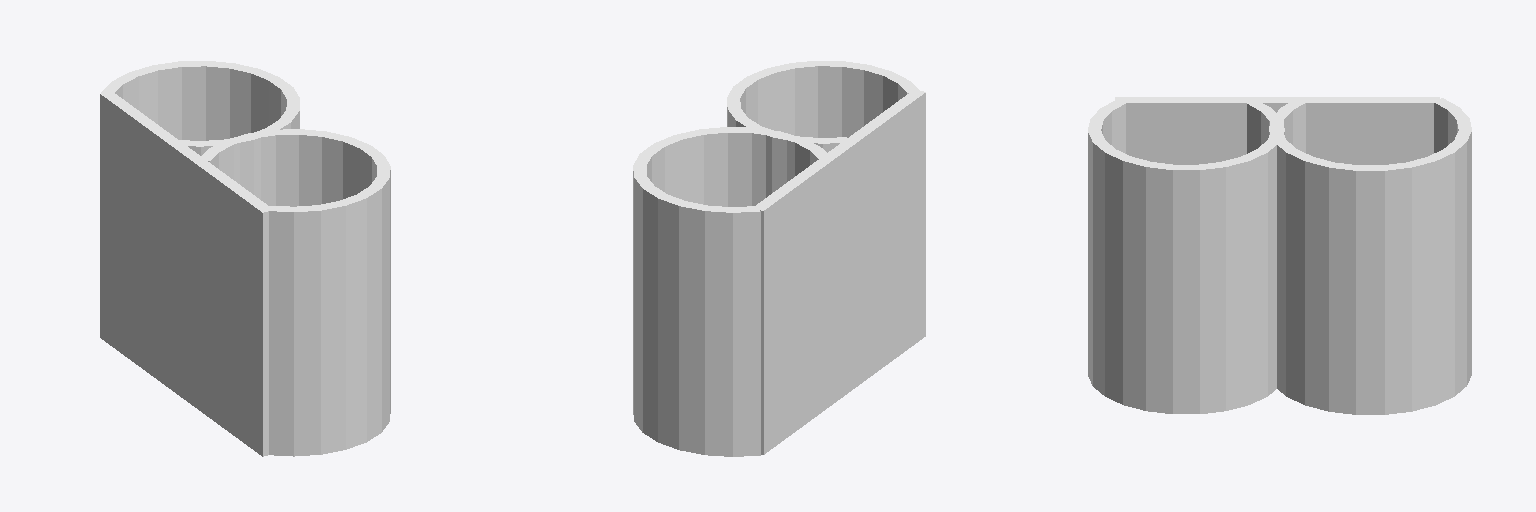
3 renders of one model, left to right at view 1: azimuth 30°, elevation 25°; view 2: azimuth 150°, elevation 25°; view 3: azimuth 270°, elevation 25°, orthographic.
Visible parts, largest first — view 1: wall_1_4, wall_3_15, wall_2_10, wall_3_16, wall_2_9, wall_2_11, wall_3_17, wall_2_12, wall_3_18, wall_1_6, wall_1_5; view 2: wall_1_4, wall_2_9, wall_3_16, wall_2_10, wall_3_15, wall_2_11, wall_3_17, wall_2_12, wall_3_18, wall_1_6, wall_1_5; view 3: wall_2_9, wall_3_15, wall_1_3, wall_3_16, wall_2_10, wall_2_11, wall_2_12, wall_3_17, wall_3_18, wall_1_6, wall_1_5.
Part boxes in pixels (x1,y1,x2,y2): wall_1_4: (100, 94, 267, 456); wall_3_15: (269, 170, 390, 456); wall_2_10: (115, 66, 286, 140); wall_3_16: (208, 135, 376, 206); wall_2_9: (188, 111, 299, 199); wall_2_11: (101, 61, 299, 146); wall_3_17: (198, 129, 390, 211); wall_2_12: (108, 64, 293, 143); wall_3_18: (204, 132, 383, 209); wall_1_6: (101, 93, 267, 212); wall_1_5: (108, 92, 271, 210); wall_1_4: (760, 93, 925, 454); wall_2_9: (633, 171, 760, 456); wall_3_16: (740, 66, 908, 137); wall_2_10: (647, 133, 818, 206); wall_3_15: (727, 107, 839, 197); wall_2_11: (633, 127, 830, 212); wall_3_17: (727, 61, 919, 143); wall_2_12: (640, 130, 824, 209); wall_3_18: (734, 63, 912, 140); wall_1_6: (759, 91, 925, 210); wall_1_5: (753, 90, 917, 209); wall_2_9: (1269, 132, 1471, 414); wall_3_15: (1088, 132, 1284, 413); wall_1_3: (1126, 103, 1433, 164); wall_3_16: (1101, 104, 1269, 153); wall_2_10: (1284, 103, 1458, 152); wall_2_11: (1269, 98, 1471, 170); wall_2_12: (1275, 101, 1464, 167); wall_3_17: (1088, 100, 1284, 169); wall_3_18: (1095, 101, 1272, 166); wall_1_6: (1115, 97, 1439, 99); wall_1_5: (1115, 100, 1439, 102).
Bounding box in the file's own units: 99.05 × 152 × 218.